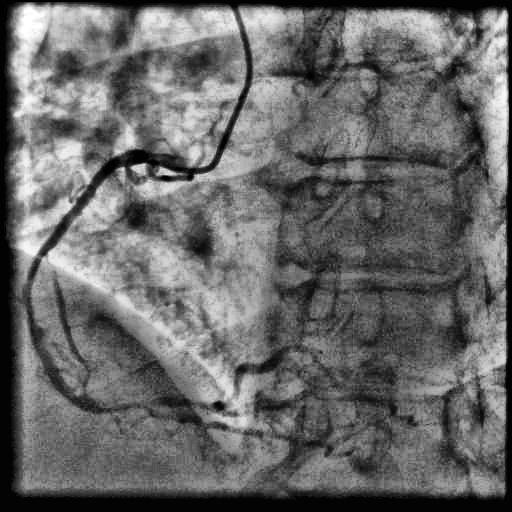pborca: (145, 345, 328, 412)
pda: (141, 406, 262, 437)
rca: (23, 149, 144, 413)
